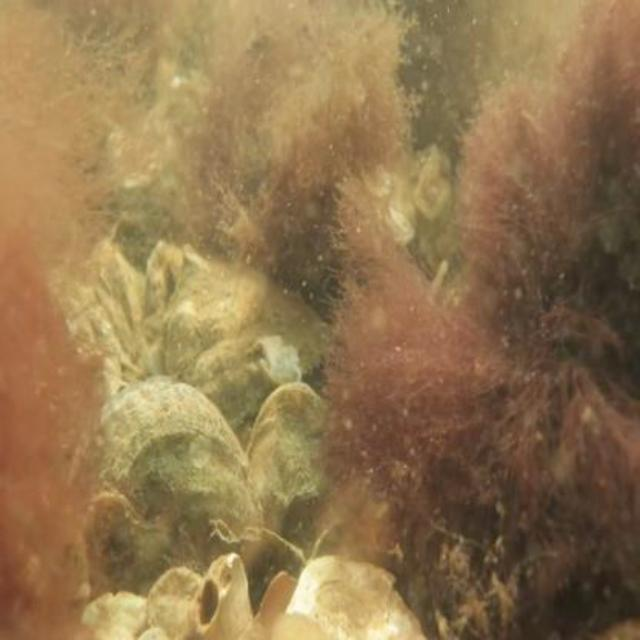Oyster-Closed: (70, 383, 262, 602), (165, 241, 332, 423), (268, 555, 429, 640), (250, 391, 332, 537), (105, 243, 142, 332), (85, 597, 148, 640), (147, 571, 200, 606)
Oyster-Open: (240, 529, 304, 636)
